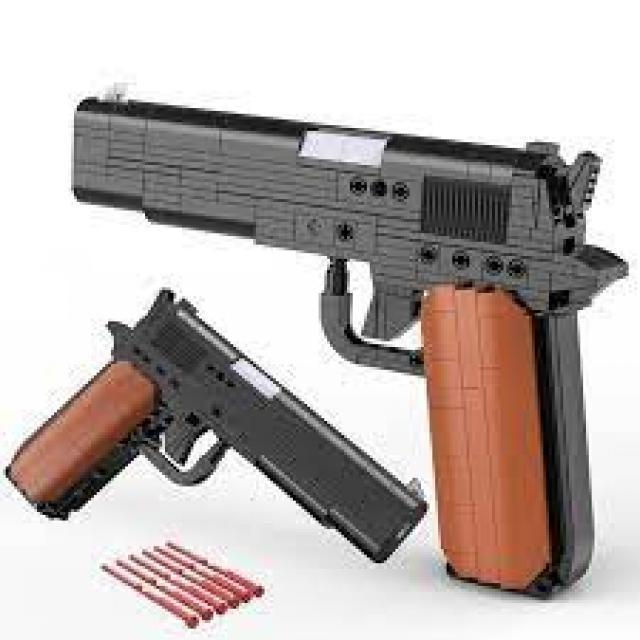semi automatic: (4, 66, 633, 634)
